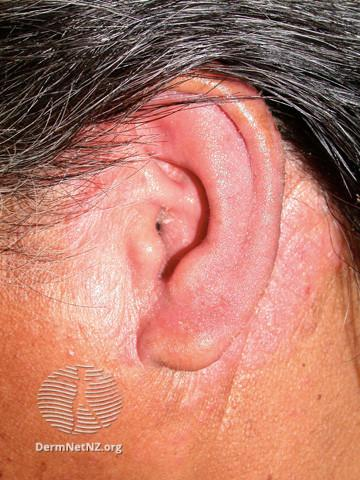Psoriasis: (14, 77, 358, 400)
